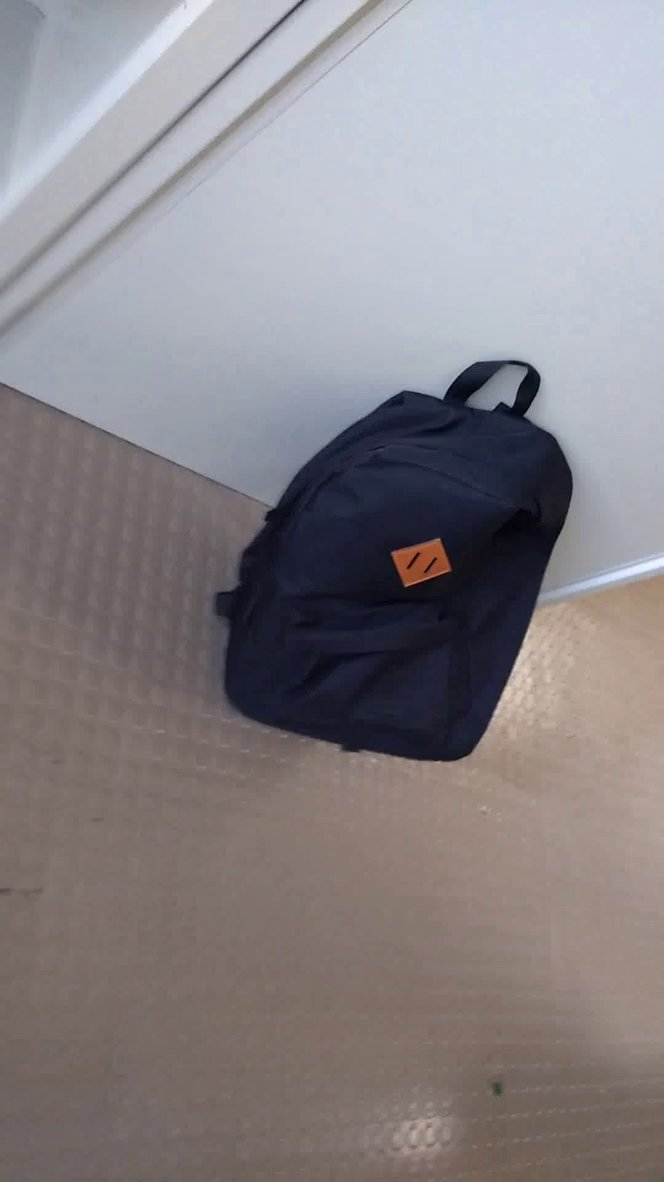bag: (198, 331, 582, 787)
